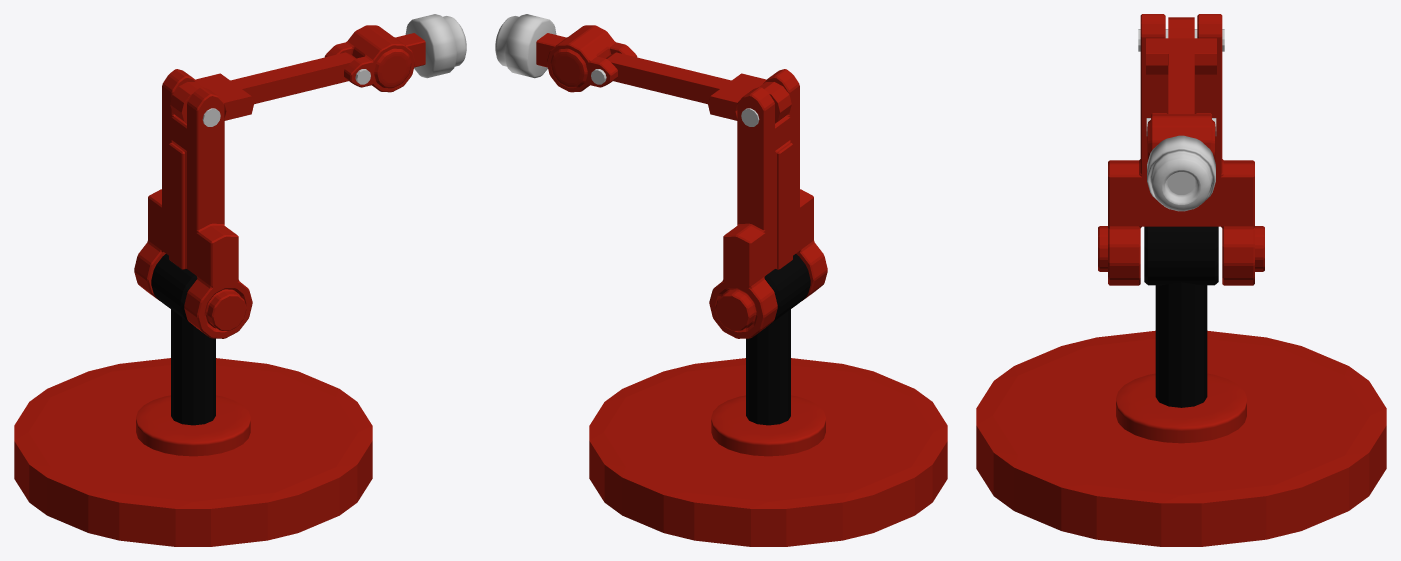
File: rbrmclx.dae
3 views of the same model, side by side, from view 1: azimuth 30°, elevation 25°; view 2: azimuth 150°, elevation 25°; view 3: azimuth 270°, elevation 25° (orthographic). The views are drawn at different scales.
Visible parts, largest first — view 1: Cylinder_002, Cylinder_019, Cylinder_018, Cylinder_020, Cylinder_003, Cylinder_021, Cylinder_022, Cylinder_017; view 2: Cylinder_002, Cylinder_019, Cylinder_018, Cylinder_020, Cylinder_003, Cylinder_021, Cylinder_022, Cylinder_017; view 3: Cylinder_002, Cylinder_019, Cylinder_003, Cylinder_020, Cylinder_017, Cylinder_022, Cylinder_018, Cylinder_021.
Part boxes in pixels (x1,y1,x2,y2): Cylinder_002: [14, 358, 372, 546]; Cylinder_019: [134, 69, 252, 338]; Cylinder_018: [170, 52, 355, 123]; Cylinder_020: [136, 395, 250, 456]; Cylinder_003: [171, 309, 215, 425]; Cylinder_021: [324, 25, 425, 92]; Cylinder_022: [405, 14, 466, 78]; Cylinder_017: [151, 254, 197, 324]; Cylinder_002: [589, 358, 947, 546]; Cylinder_019: [709, 69, 827, 338]; Cylinder_018: [606, 52, 791, 123]; Cylinder_020: [711, 395, 825, 456]; Cylinder_003: [746, 309, 790, 425]; Cylinder_021: [536, 25, 637, 92]; Cylinder_022: [495, 14, 556, 78]; Cylinder_017: [764, 254, 810, 324]; Cylinder_002: [976, 330, 1386, 546]; Cylinder_019: [1098, 14, 1264, 285]; Cylinder_003: [1155, 282, 1207, 407]; Cylinder_020: [1116, 373, 1246, 443]; Cylinder_017: [1144, 226, 1218, 285]; Cylinder_022: [1147, 135, 1215, 211]; Cylinder_018: [1146, 17, 1216, 113]; Cylinder_021: [1147, 113, 1215, 161].
Size of the model in its own units: 10.13 by 7.5 by 9.13.
